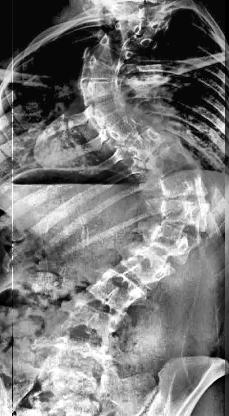Vertebrae: (120, 245, 174, 293), (88, 269, 142, 313), (158, 196, 216, 230), (144, 225, 200, 259), (42, 358, 105, 388), (158, 172, 210, 204), (44, 333, 110, 357), (87, 100, 136, 132), (146, 146, 192, 180), (130, 120, 165, 162), (65, 303, 114, 331), (91, 36, 132, 68), (111, 108, 145, 146), (78, 78, 130, 102), (75, 60, 125, 82)
